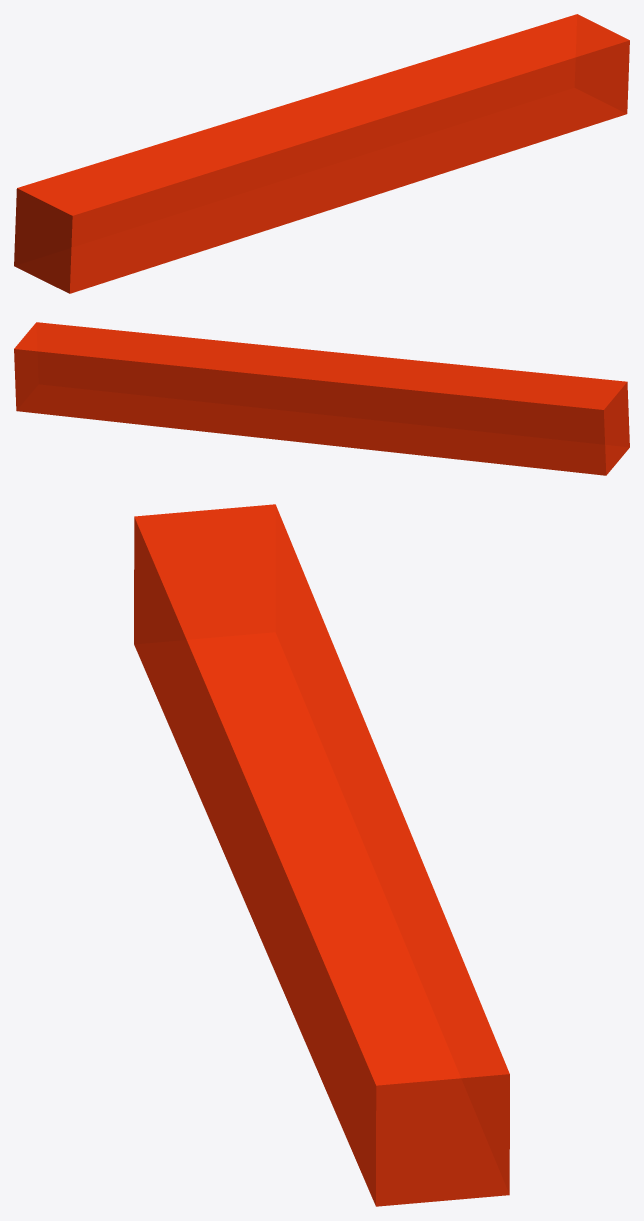
The model's file is Event_420604493_EErechit_17.fbx.
3 views of the same model, one above another, from view 1: azimuth 30°, elevation 25°; view 2: azimuth 150°, elevation 25°; view 3: azimuth 270°, elevation 25° (orthographic). The views are drawn at different scales.
Visible parts, largest first — view 1: Model; view 2: Model; view 3: Model.
Boxes of the visible parts, x1,y1,x2,y2 form: Model: (14,14,629,293); Model: (14,322,629,475); Model: (134,504,509,1206).
Size of the model in its own units: 0.6705 by 0.1032 by 0.2003.
